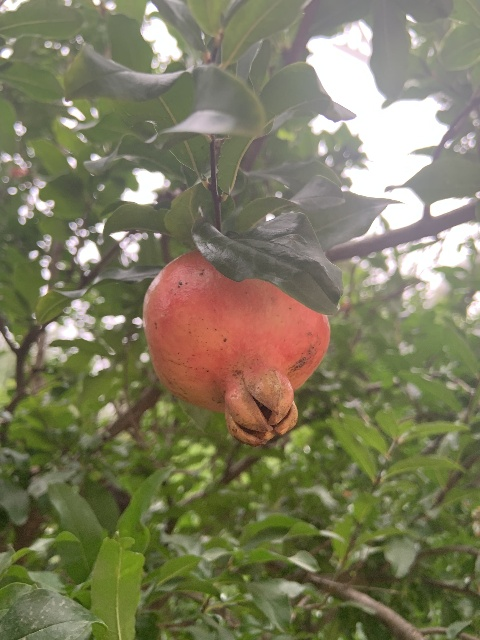ripe: (141, 249, 331, 446)
